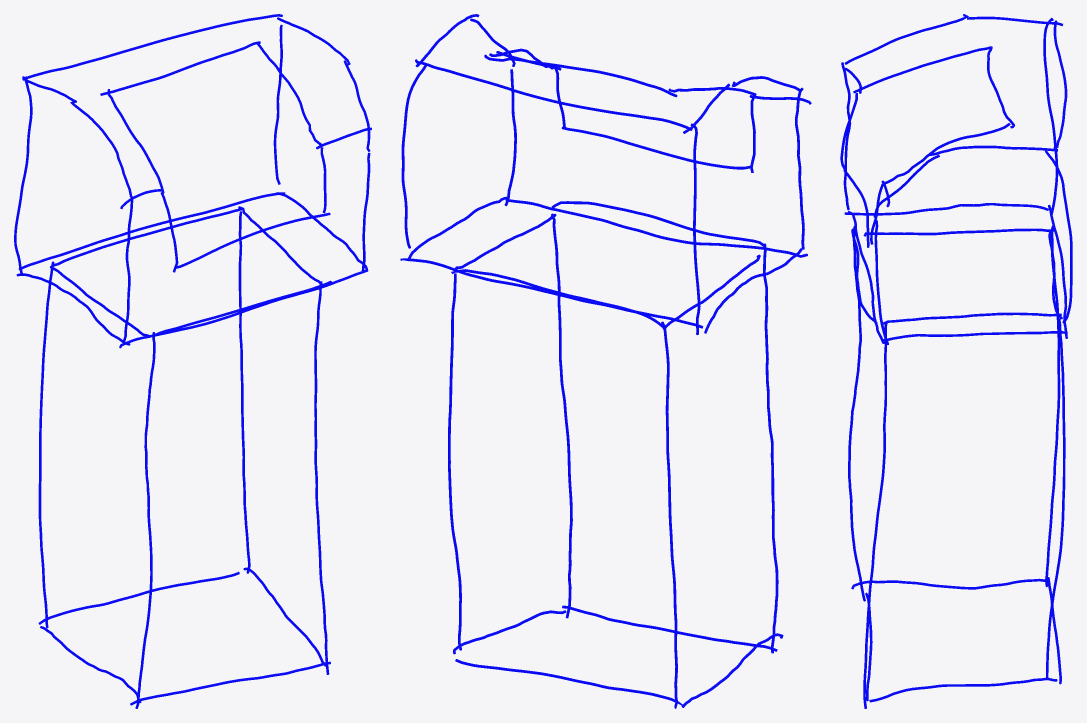
File: scaffold_sketch_P1_trash.json.glb
3 views of the same model, side by side, from view 1: azimuth 30°, elevation 25°; view 2: azimuth 150°, elevation 25°; view 3: azimuth 270°, elevation 25° (orthographic). The views are drawn at different scales.
Parts seen in each view (by area): view 1: scaffold_sketch_P1_trash.json; view 2: scaffold_sketch_P1_trash.json; view 3: scaffold_sketch_P1_trash.json.
Boxes of the visible parts, x1,y1,x2,y2 form: scaffold_sketch_P1_trash.json: [14, 14, 371, 708]; scaffold_sketch_P1_trash.json: [400, 14, 811, 708]; scaffold_sketch_P1_trash.json: [840, 14, 1072, 708].
Size of the model in its own units: 0.4954 by 1 by 0.3558.
